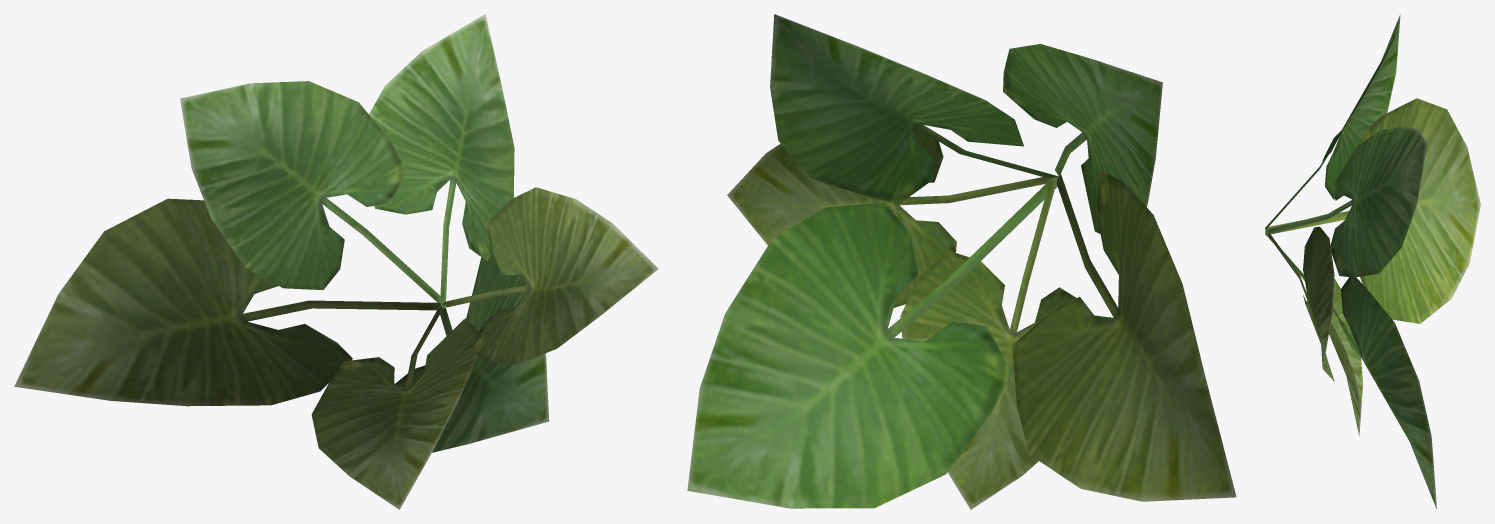
The model's file is Plant_Big_C.fbx.
3 renders of one model, left to right at view 1: azimuth 30°, elevation 25°; view 2: azimuth 150°, elevation 25°; view 3: azimuth 270°, elevation 25°, orthographic. The views are drawn at different scales.
Parts seen in each view (by area): view 1: Plant_Big_C; view 2: Plant_Big_C; view 3: Plant_Big_C.
Boxes of the visible parts, x1,y1,x2,y2 form: Plant_Big_C: (14,14,658,509); Plant_Big_C: (687,14,1236,509); Plant_Big_C: (1265,14,1480,508).
Bounding box in the file's own units: 3.02 × 2.34 × 1.31.
